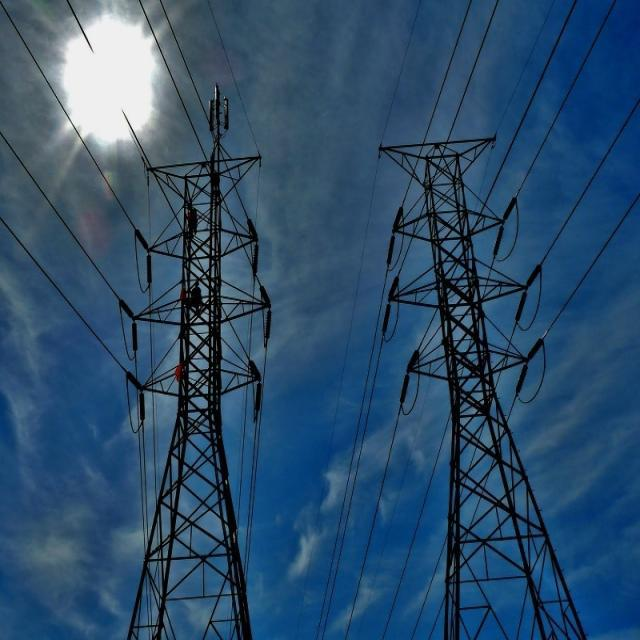non-critical vegetation: (370, 138, 596, 628), (115, 105, 282, 630)
